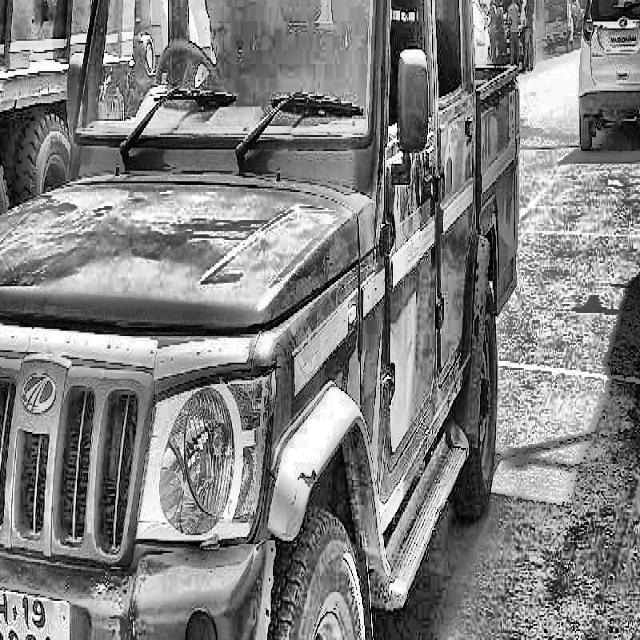light_vehicle: (0, 0, 514, 640)
